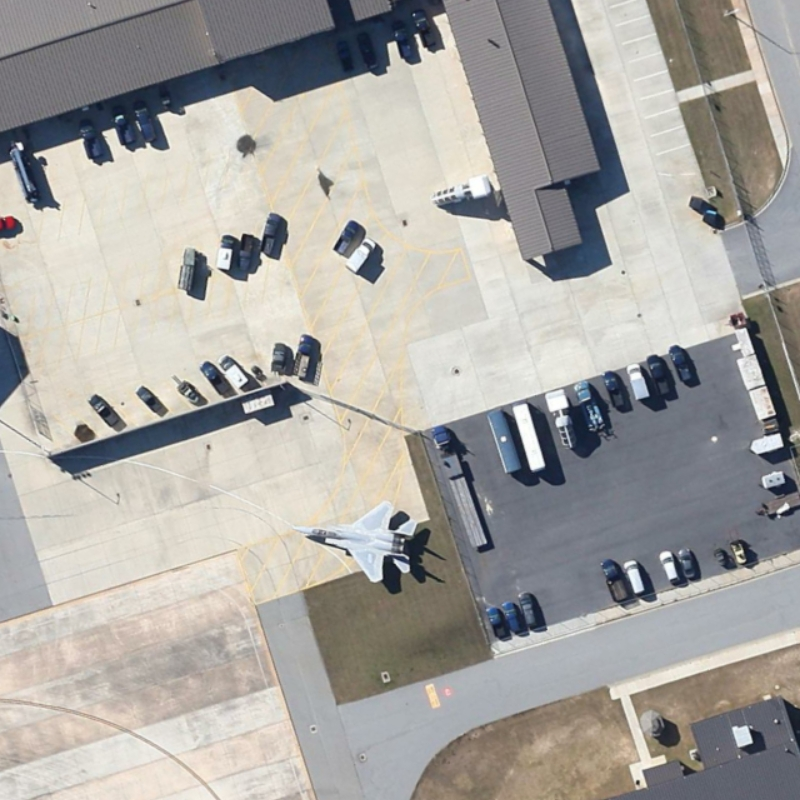A13: (282, 497, 421, 589)
